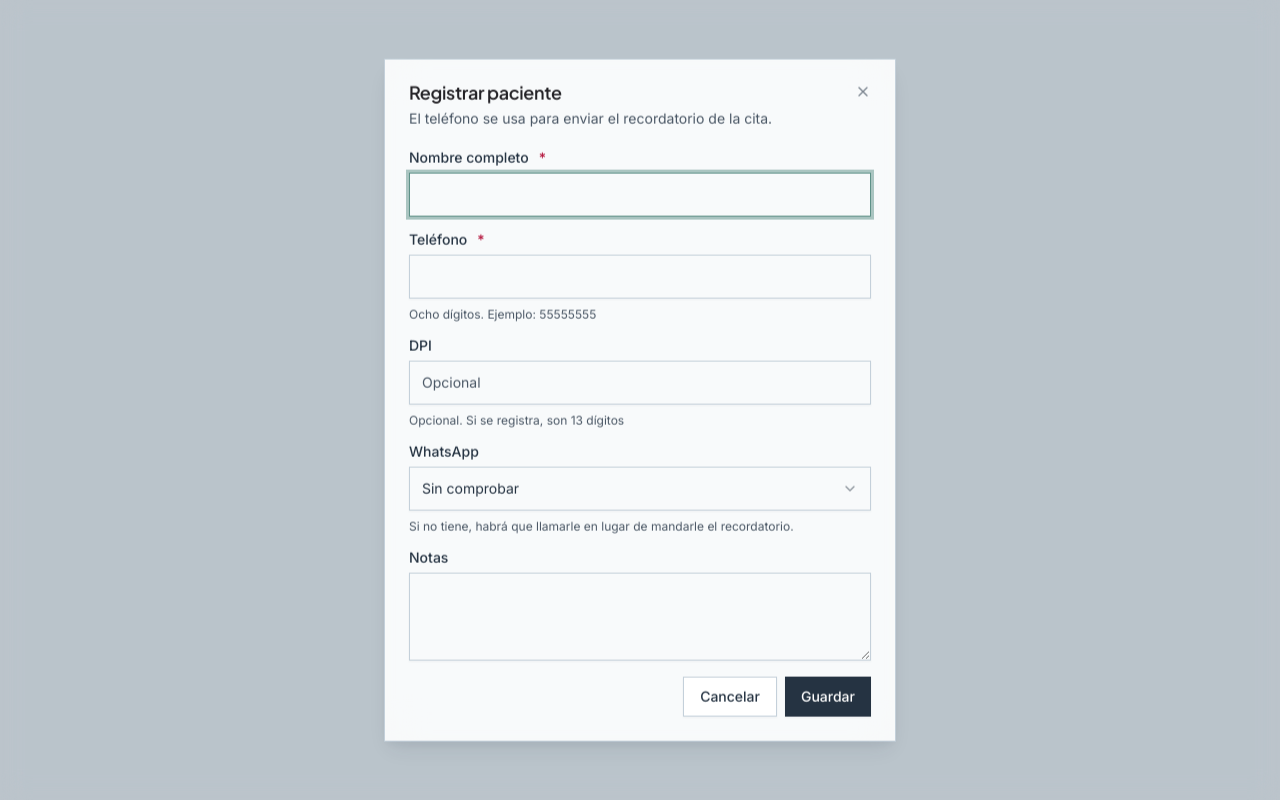
it: PacienteFormDialog › DPI › rechaza 10 dígitos: le faltan tres
The image size is (1280, 800).
In the field labelled "Nombre completo *": {"x": 640, "y": 194} [409,172,871,216], type "Ana López"
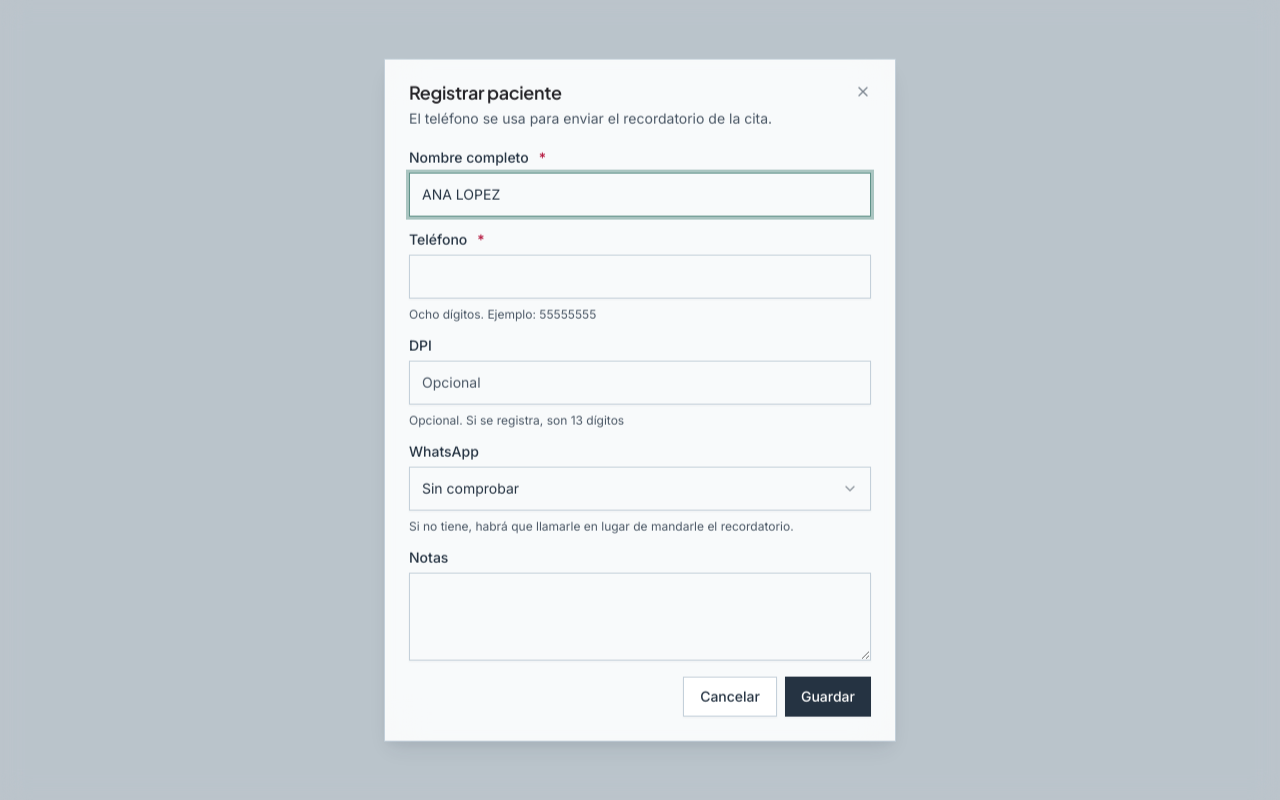
In the field labelled "Teléfono *": {"x": 640, "y": 276} [409,254,871,298], type "55555555"
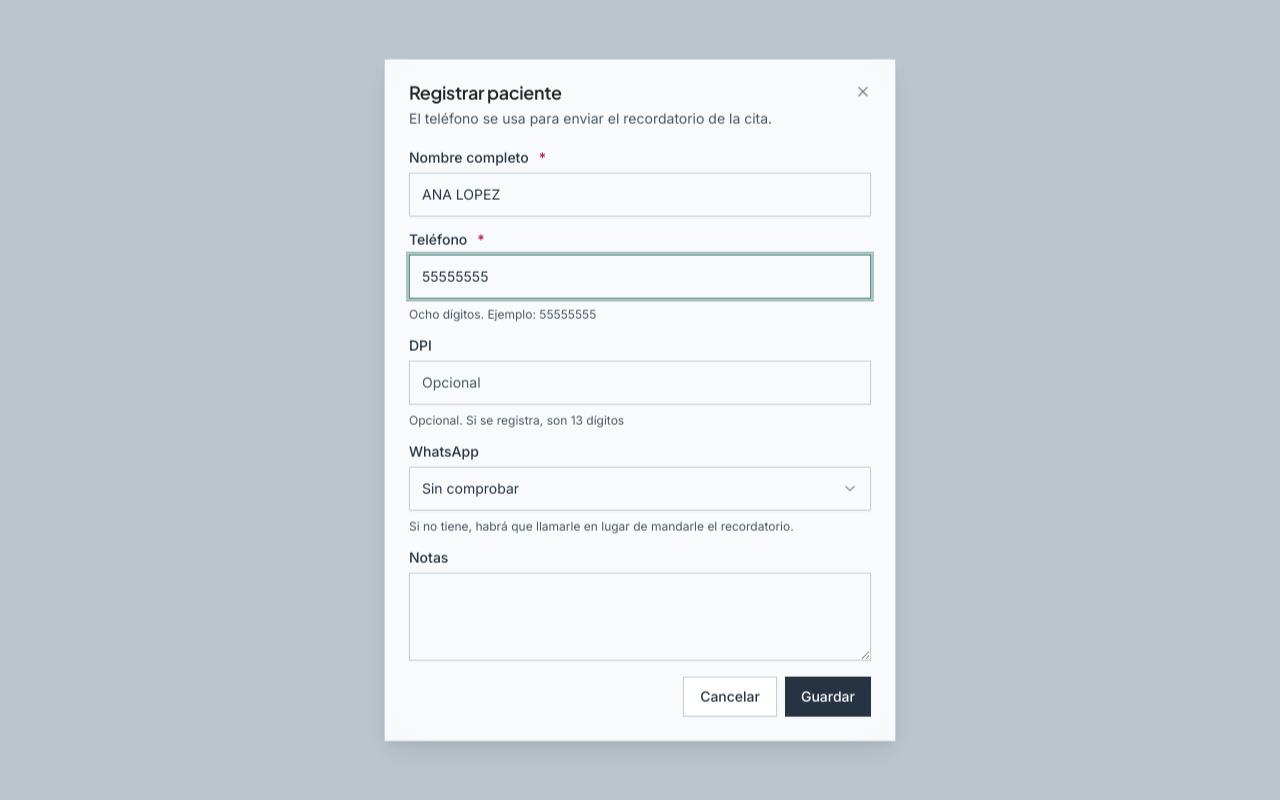
In the field labelled "DPI": {"x": 640, "y": 382} [409,360,871,404], type "1111111111"
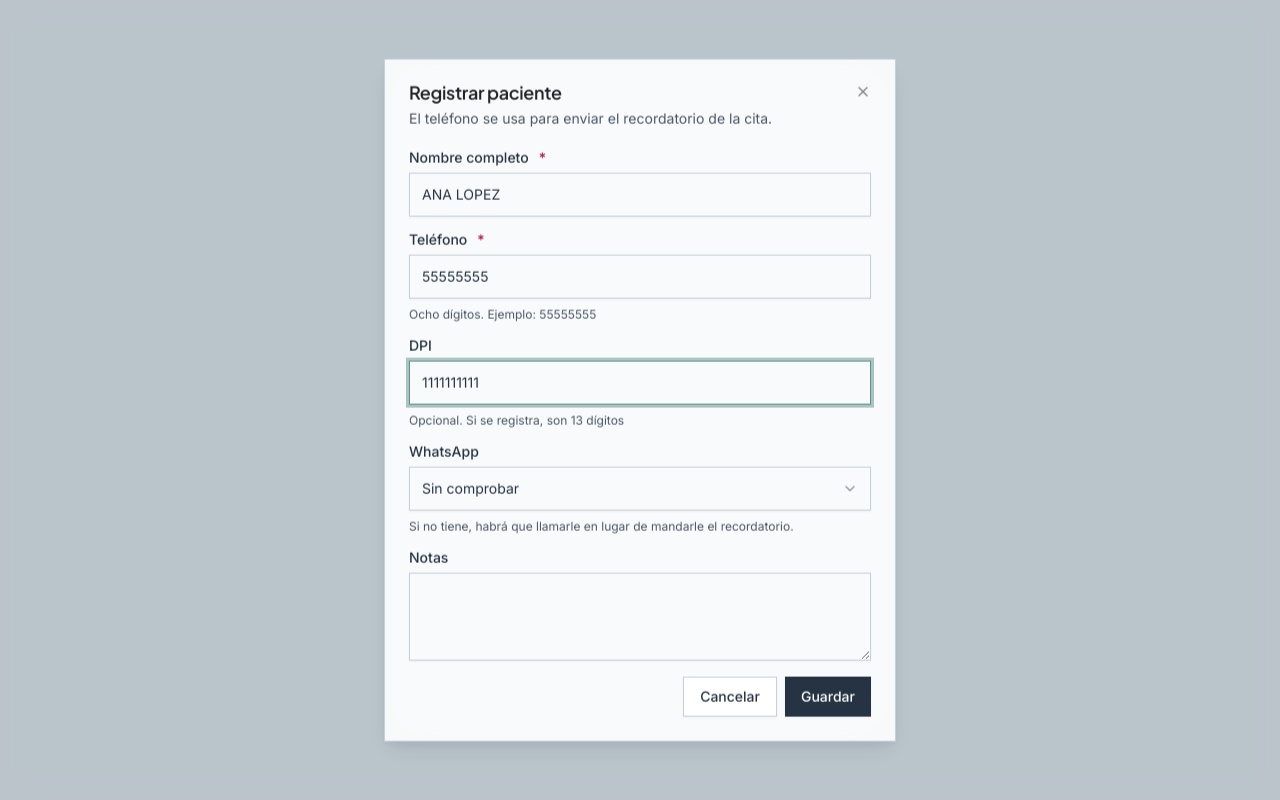
Click the button "Guardar": {"x": 828, "y": 696} [785,676,871,716]
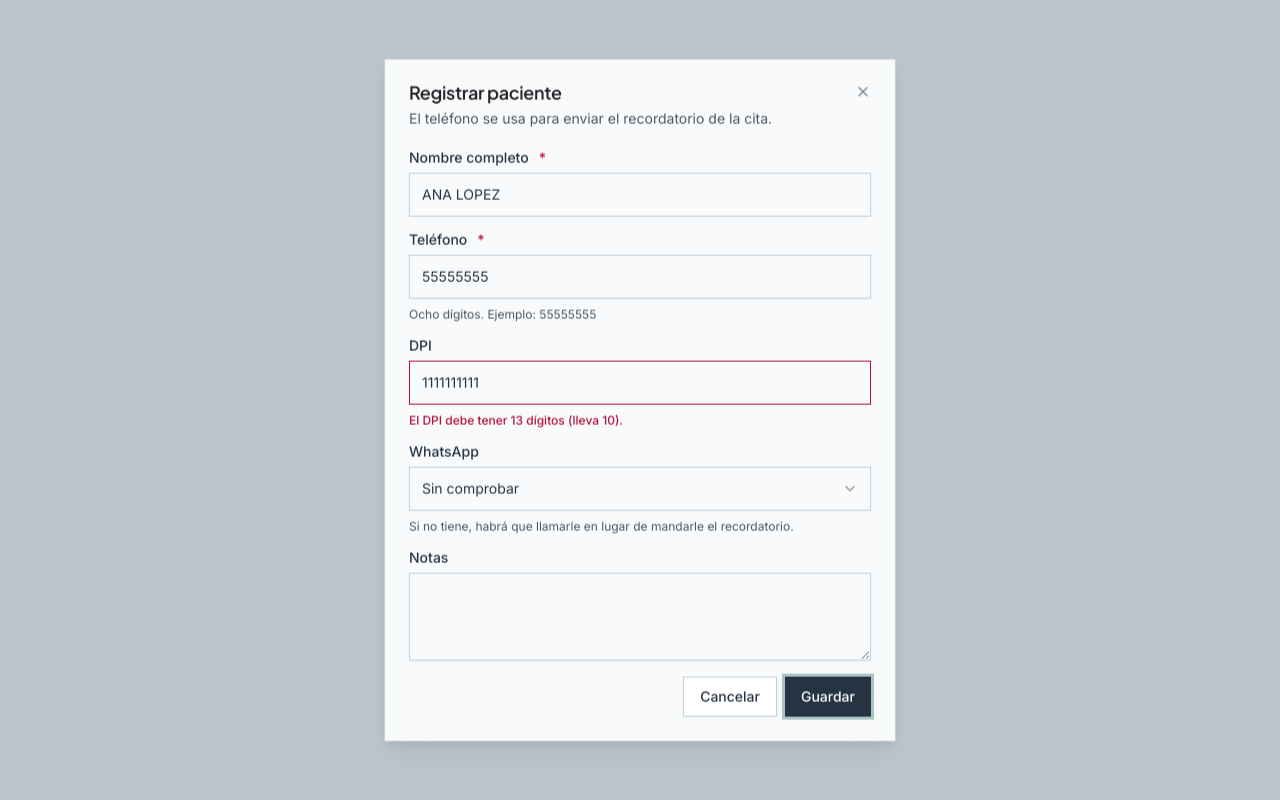
Expected: the text "El DPI debe tener 13 dígitos (lleva 10)." is shown, [409,412,623,427]
